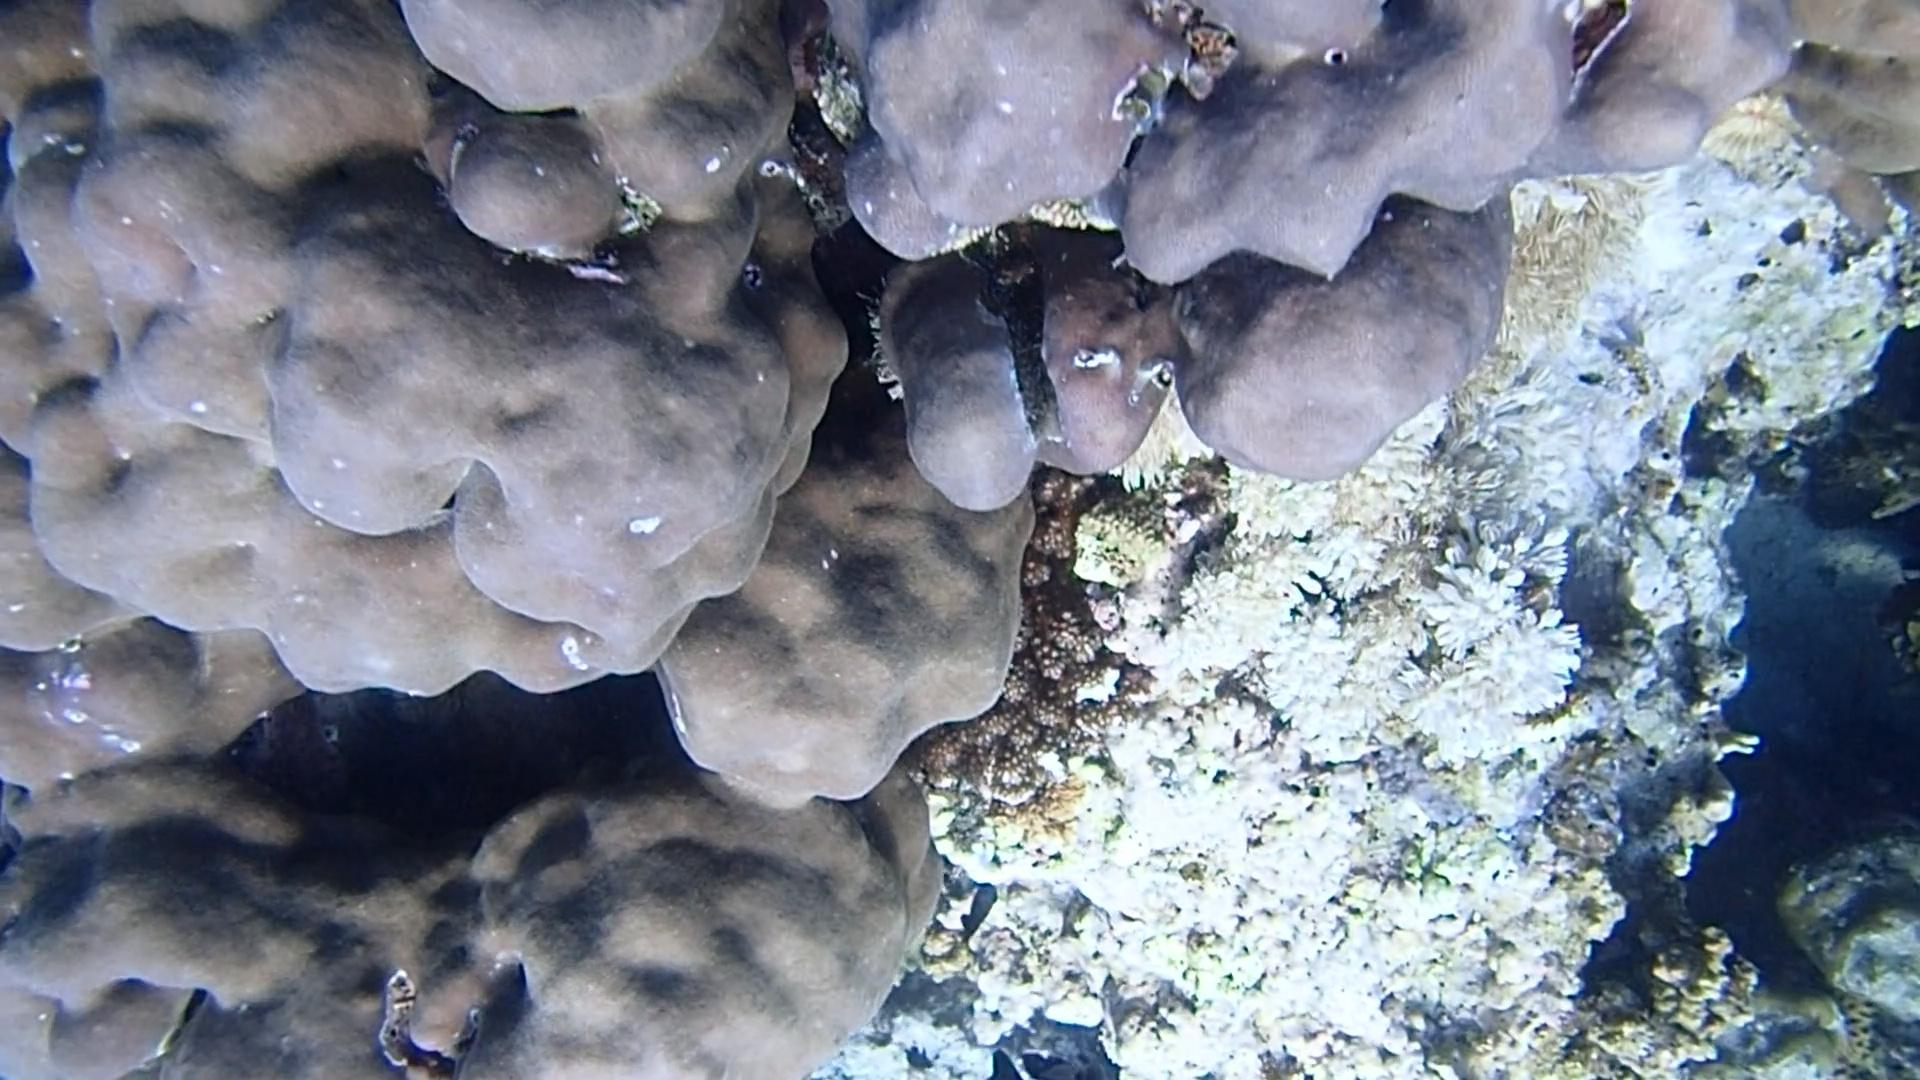Dark Fish: (948, 877, 1005, 951), (894, 1038, 940, 1073)
